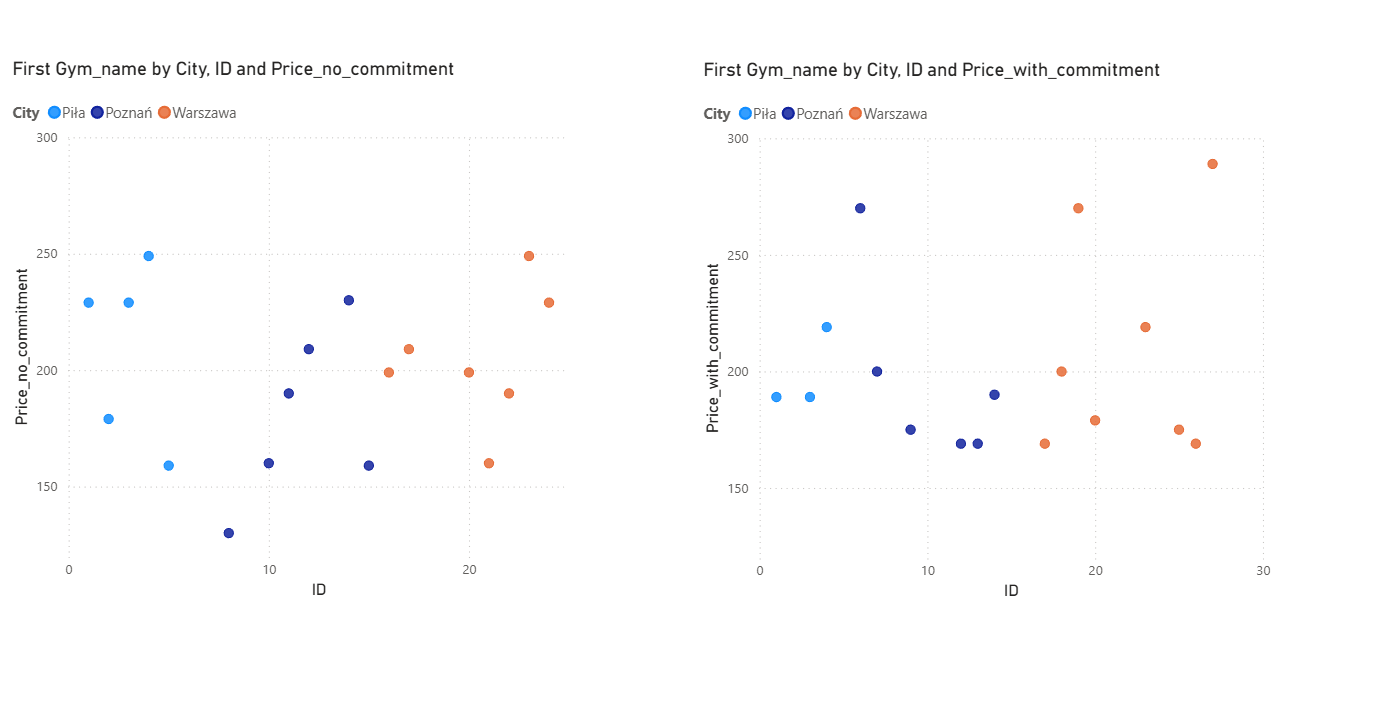

The dashboard page shown, as its layout file describes it:
{"tool":"powerbi","page":{"name":"Pricing structure","canvas":[1280,720],"ordinal":1},"visuals":[{"type":"scatterChart","fields":{"X":["Gyms_raw.ID"],"Y":["Gyms_raw.Price_no_commitment"],"Series":["Gyms_raw.City"]},"box":[11.6,88.5,522.9,497.3],"z":0},{"type":"scatterChart","fields":{"X":["Gyms_raw.ID"],"Y":["Gyms_raw.Price_with_commitment"],"Series":["Gyms_raw.City"]},"box":[640,88.9,525.6,497.8],"z":1000}]}

Visuals, with their boxes on the page's 1280x720 design canvas (x1, y1, x2, y2). These are canvas units, not pixel positions in the 1388x716 screenshot, which may show the page scaled, cropped or inside an application window:
scatterChart - Gyms_raw.ID x Gyms_raw.Price_no_commitment: (12,88,534,586)
scatterChart - Gyms_raw.ID x Gyms_raw.Price_with_commitment: (640,89,1166,587)
